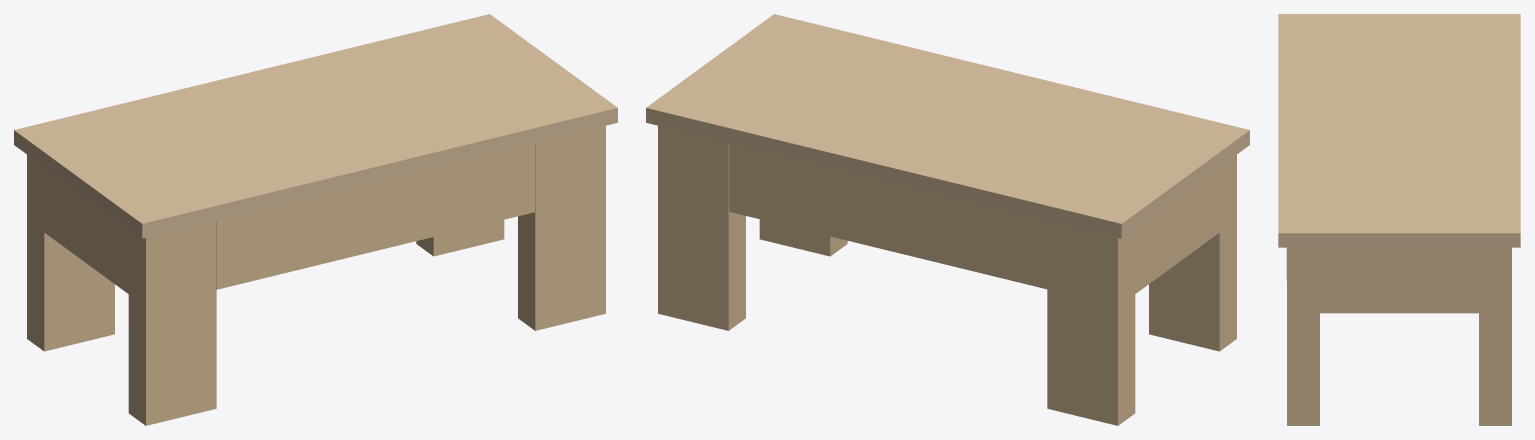
Rendered from oiled.glb.
3 views of the same model, side by side, from view 1: azimuth 30°, elevation 25°; view 2: azimuth 150°, elevation 25°; view 3: azimuth 270°, elevation 25° (orthographic). The views are drawn at different scales.
Visible parts, largest first — view 1: top.1, long_apron.2, leg.3, leg.4, leg.1, short_apron.1, leg.2; view 2: top.1, long_apron.1, leg.1, leg.2, leg.3, short_apron.1, leg.4; view 3: top.1, short_apron.2, leg.2, leg.4.
Part boxes in pixels (x1,y1,x2,y2): top.1: [14, 14, 617, 238]; long_apron.2: [216, 143, 534, 289]; leg.3: [128, 221, 216, 425]; leg.4: [518, 125, 605, 330]; leg.1: [27, 155, 114, 351]; short_apron.1: [44, 167, 128, 293]; leg.2: [416, 220, 504, 256]; top.1: [646, 14, 1249, 238]; long_apron.1: [729, 143, 1047, 289]; leg.1: [1047, 220, 1135, 425]; leg.2: [658, 125, 745, 330]; leg.3: [1149, 155, 1236, 351]; short_apron.1: [1135, 167, 1219, 293]; leg.4: [759, 219, 847, 256]; top.1: [1278, 14, 1520, 247]; short_apron.2: [1320, 247, 1478, 313]; leg.2: [1479, 247, 1511, 425]; leg.4: [1287, 247, 1319, 425].
Size of the model in its own units: 0.6 by 0.25 by 0.28.
